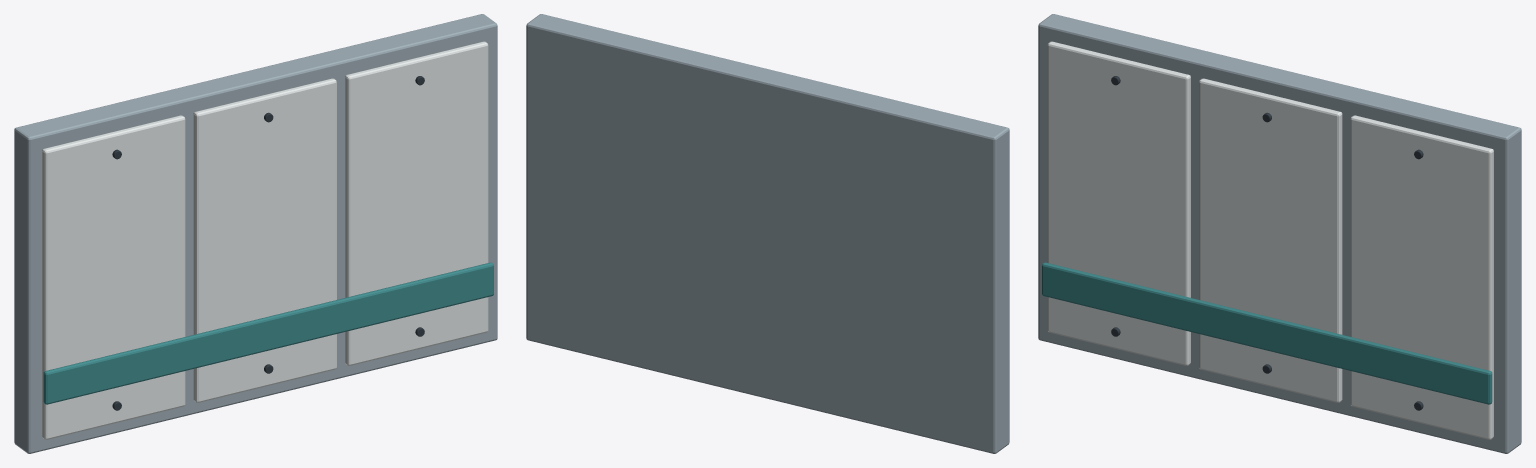
File: wall-panel.glb
The picture shows the model from 3 angles, left to right: view 1: azimuth 30°, elevation 25°; view 2: azimuth 150°, elevation 25°; view 3: azimuth 330°, elevation 25°; orthographic projection.
Visible parts, largest first — view 1: Inset panel, Inset panel.001, Inset panel.002, Backplate, Service stripe; view 2: Backplate; view 3: Inset panel.002, Inset panel.001, Inset panel, Backplate, Service stripe.
Part boxes in pixels (x1,y1,x2,y2): Inset panel: [42, 115, 185, 439]; Inset panel.001: [193, 78, 336, 402]; Inset panel.002: [345, 41, 488, 365]; Backplate: [14, 14, 497, 453]; Service stripe: [43, 262, 493, 404]; Backplate: [526, 14, 1009, 453]; Inset panel.002: [1350, 115, 1493, 439]; Inset panel.001: [1199, 78, 1342, 402]; Inset panel: [1047, 41, 1190, 365]; Backplate: [1038, 14, 1521, 453]; Service stripe: [1042, 262, 1492, 404].
Bounding box in the file's own units: 1.8 × 1.16 × 0.146.
